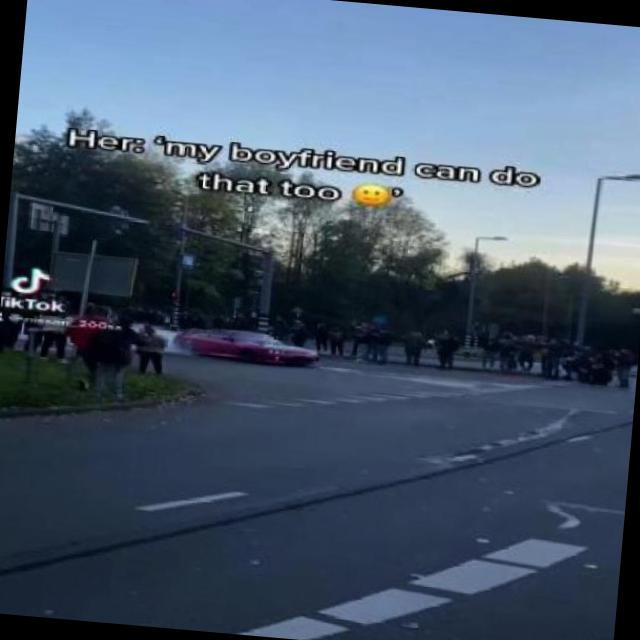car: (174, 324, 326, 372)
